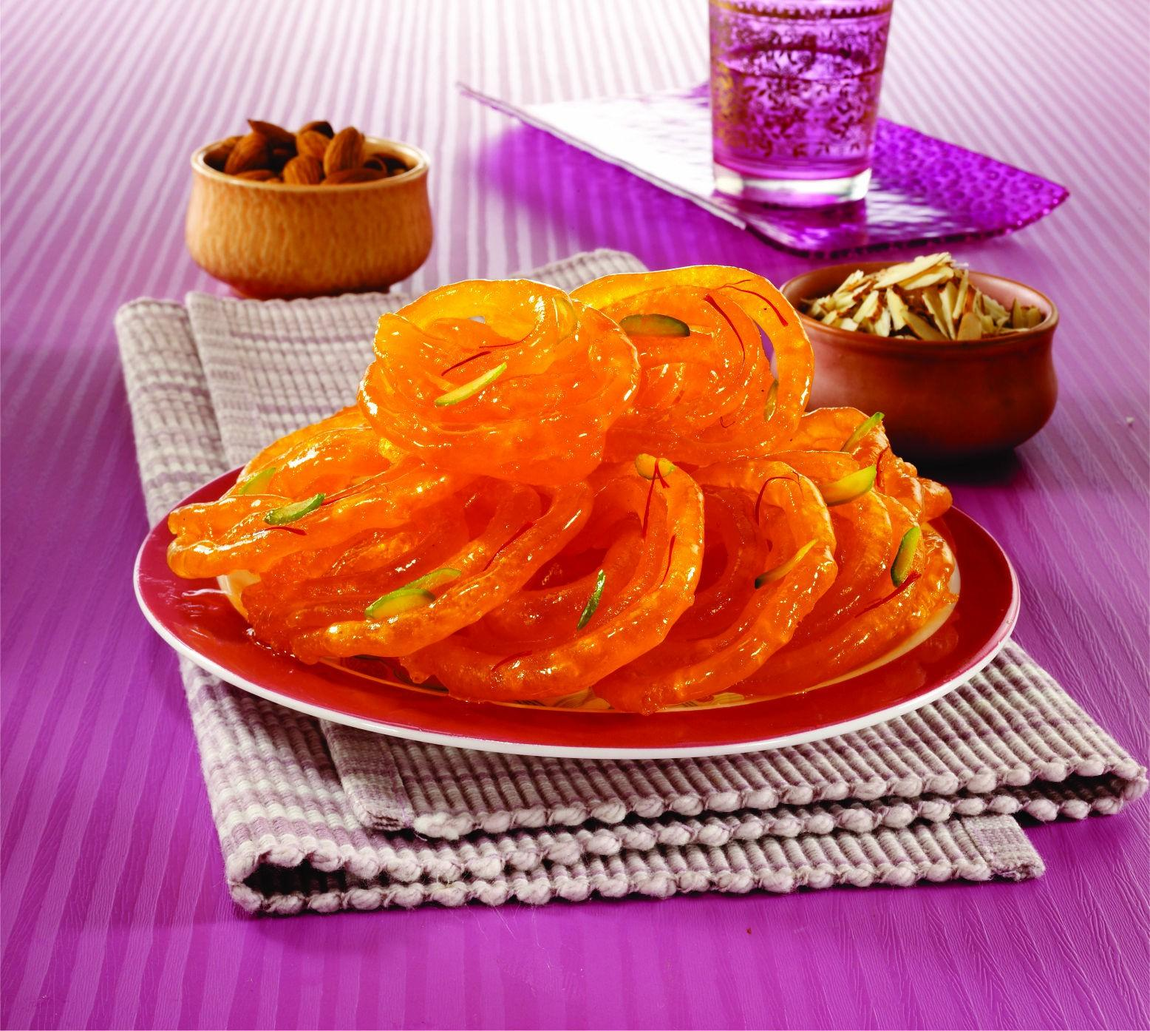Jalebi: (163, 259, 969, 711)
